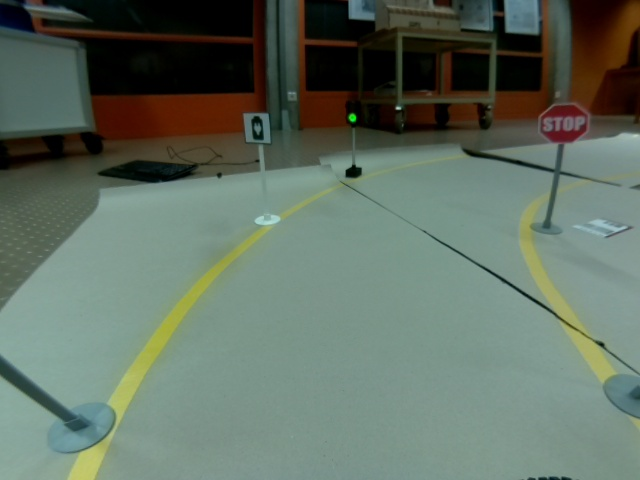battery: (242, 110, 273, 146)
stop: (536, 101, 590, 144)
traffic light: (344, 98, 363, 127)
